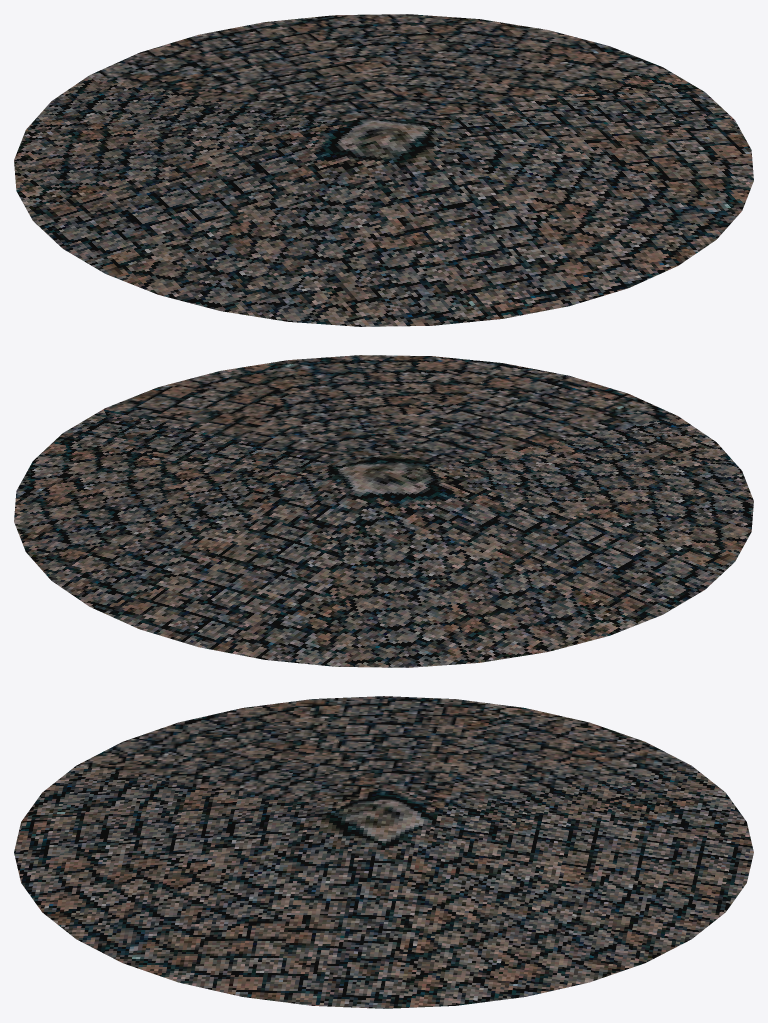
File: cobble-circle2.glb
3 renders of one model, top to bottom at view 1: azimuth 30°, elevation 25°; view 2: azimuth 150°, elevation 25°; view 3: azimuth 270°, elevation 25°, orthographic.
Visible parts, largest first — view 1: Cone; view 2: Cone; view 3: Cone.
Part boxes in pixels (left/top/right/bottom): Cone: left=14, top=14, right=753, bottom=326; Cone: left=14, top=355, right=753, bottom=667; Cone: left=14, top=696, right=753, bottom=1008.
Size of the model in its own units: 5.36 by 0.2974 by 5.36.
Materials: 1 (1 with a texture image).
